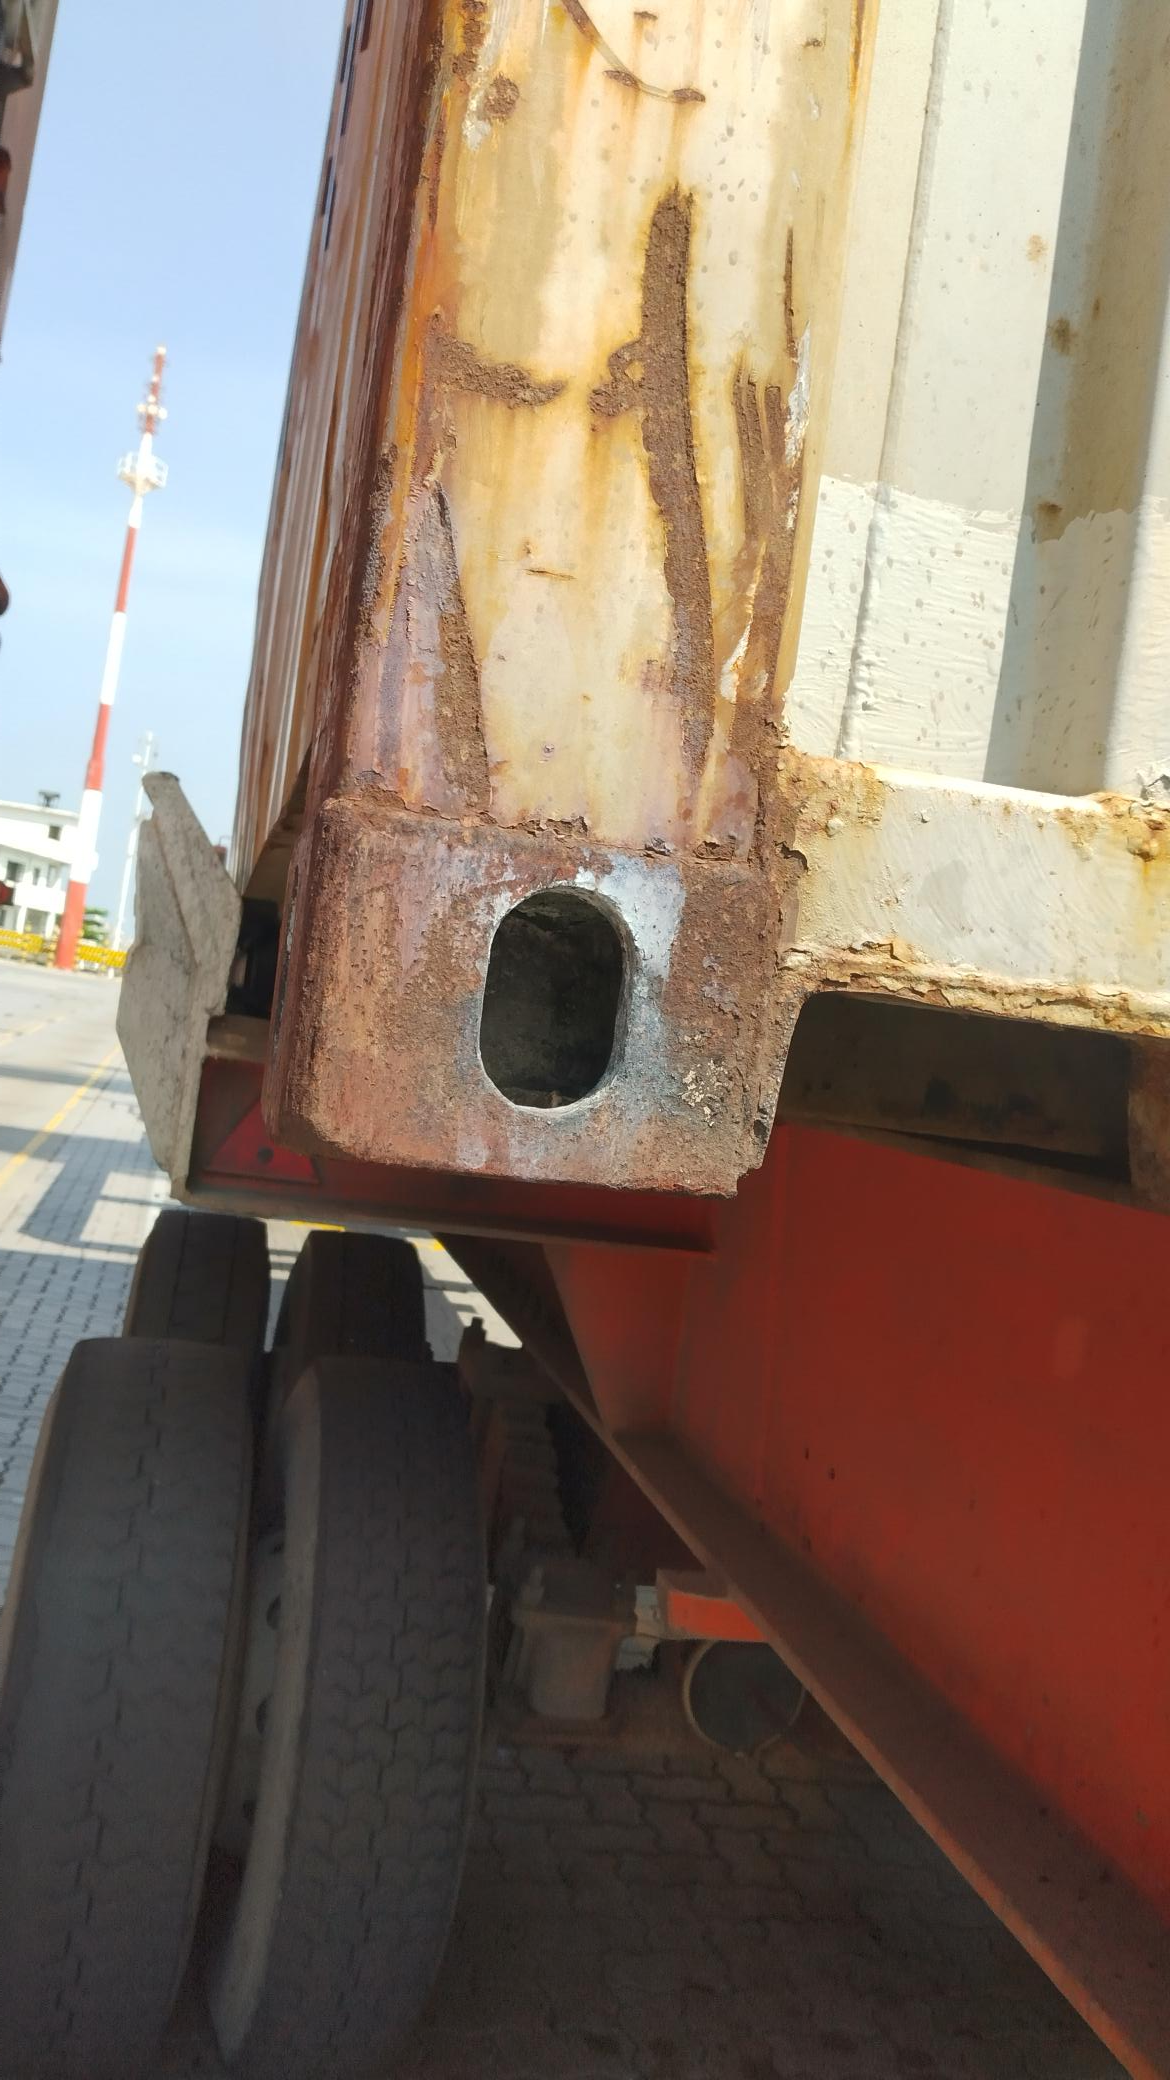rust: (374, 143, 829, 867)
